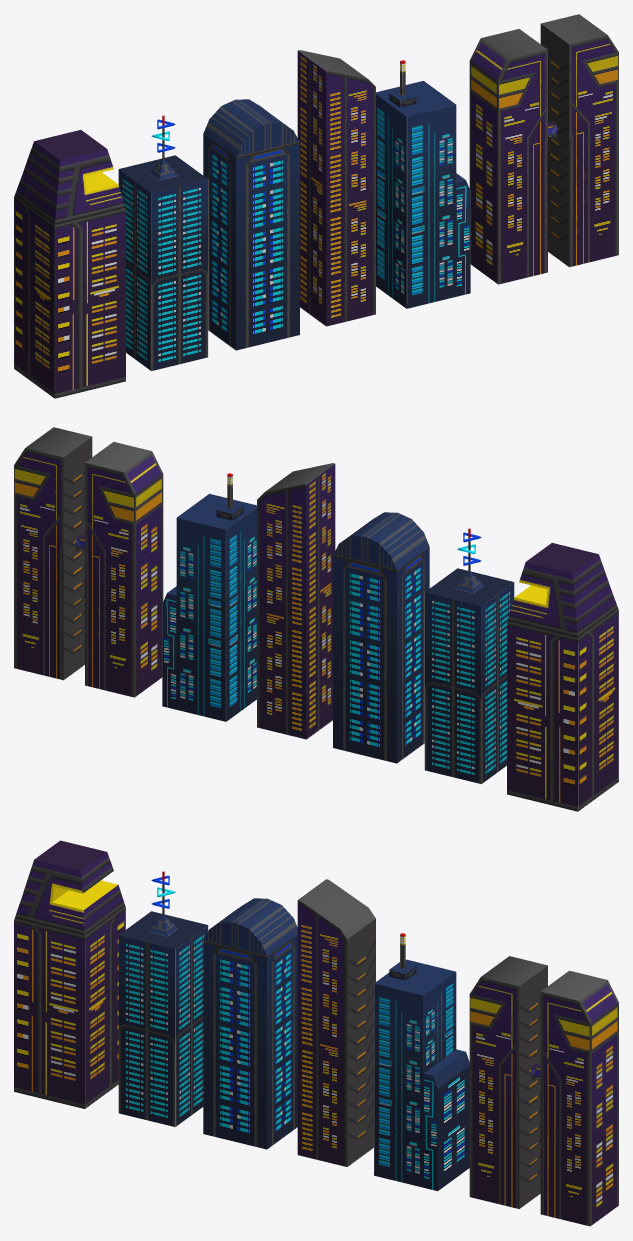
3 renders of one model, top to bottom at view 1: azimuth 30°, elevation 25°; view 2: azimuth 150°, elevation 25°; view 3: azimuth 330°, elevation 25°, orthographic.
Parts seen in each view (by area): view 1: high-rise06, high-rise01, high-rise03, high-rise04, high-rise05, high-rise02; view 2: high-rise06, high-rise01, high-rise03, high-rise04, high-rise05, high-rise02; view 3: high-rise06, high-rise01, high-rise03, high-rise04, high-rise05, high-rise02.
Boxes of the visible parts, bbox=[...] form: high-rise06: bbox=[469, 14, 618, 284]; high-rise01: bbox=[14, 130, 125, 398]; high-rise03: bbox=[203, 99, 299, 350]; high-rise04: bbox=[297, 50, 375, 326]; high-rise05: bbox=[376, 60, 470, 308]; high-rise02: bbox=[118, 115, 208, 371]; high-rise06: bbox=[14, 427, 163, 697]; high-rise01: bbox=[507, 543, 618, 811]; high-rise03: bbox=[333, 512, 429, 763]; high-rise04: bbox=[257, 463, 335, 739]; high-rise05: bbox=[162, 473, 256, 721]; high-rise02: bbox=[424, 528, 514, 784]; high-rise06: bbox=[469, 956, 618, 1226]; high-rise01: bbox=[14, 840, 125, 1108]; high-rise03: bbox=[203, 898, 297, 1149]; high-rise04: bbox=[297, 879, 375, 1166]; high-rise05: bbox=[374, 933, 469, 1191]; high-rise02: bbox=[118, 871, 208, 1127].
Size of the model in its own units: 402 by 172 by 50.
